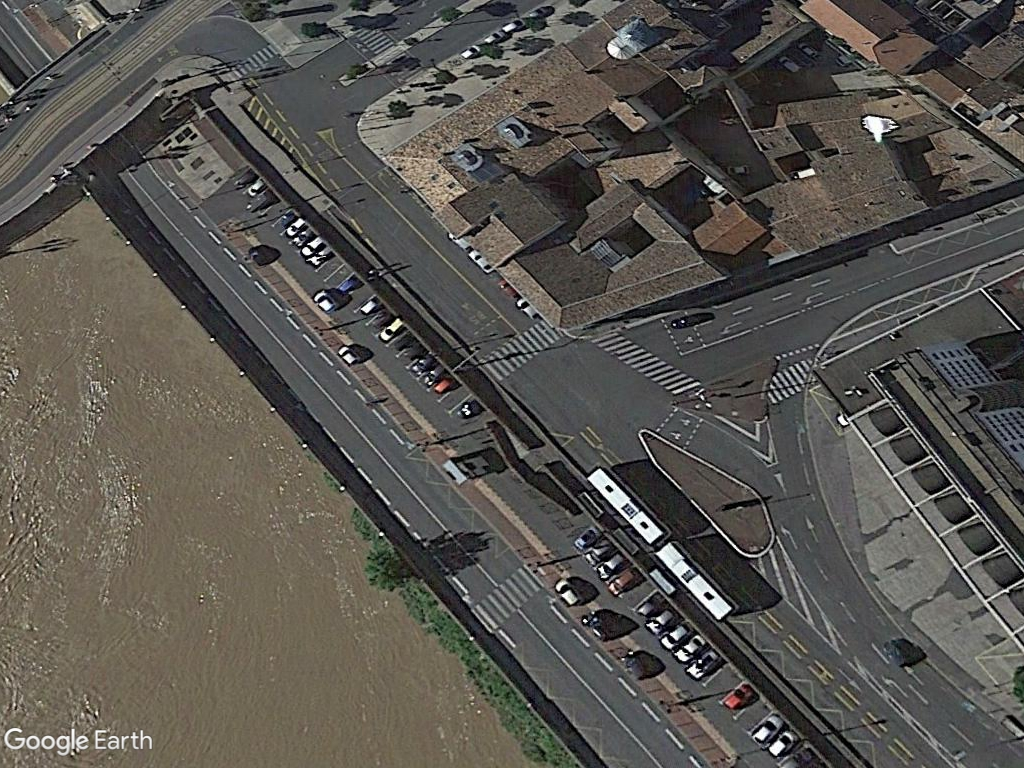car: (552, 574, 590, 610), (334, 341, 362, 368)
